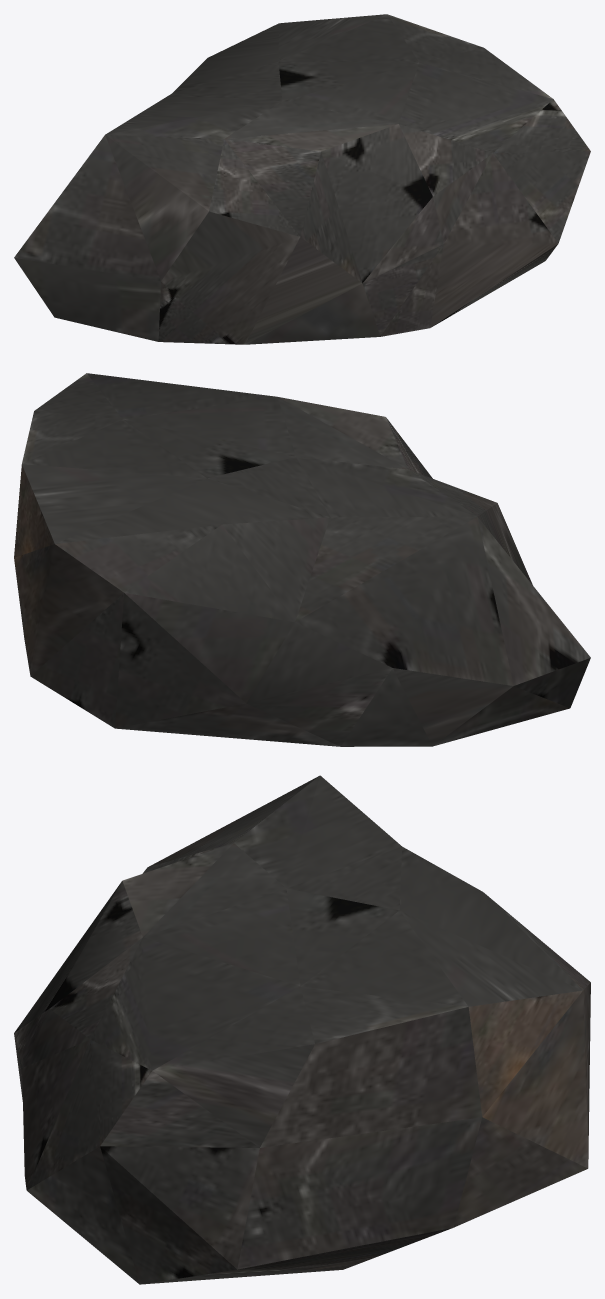
The model's file is co_basalt_block_lod2.glb.
3 views of the same model, one above another, from view 1: azimuth 30°, elevation 25°; view 2: azimuth 150°, elevation 25°; view 3: azimuth 270°, elevation 25° (orthographic). The views are drawn at different scales.
Visible parts, largest first — view 1: output_unwrapped; view 2: output_unwrapped; view 3: output_unwrapped.
Boxes of the visible parts, x1,y1,x2,y2 form: output_unwrapped: [14, 14, 590, 344]; output_unwrapped: [14, 373, 590, 746]; output_unwrapped: [14, 775, 590, 1284].
Bounding box in the file's own units: 1.8 × 0.5991 × 1.25.
Materials: 1 (1 with a texture image).
